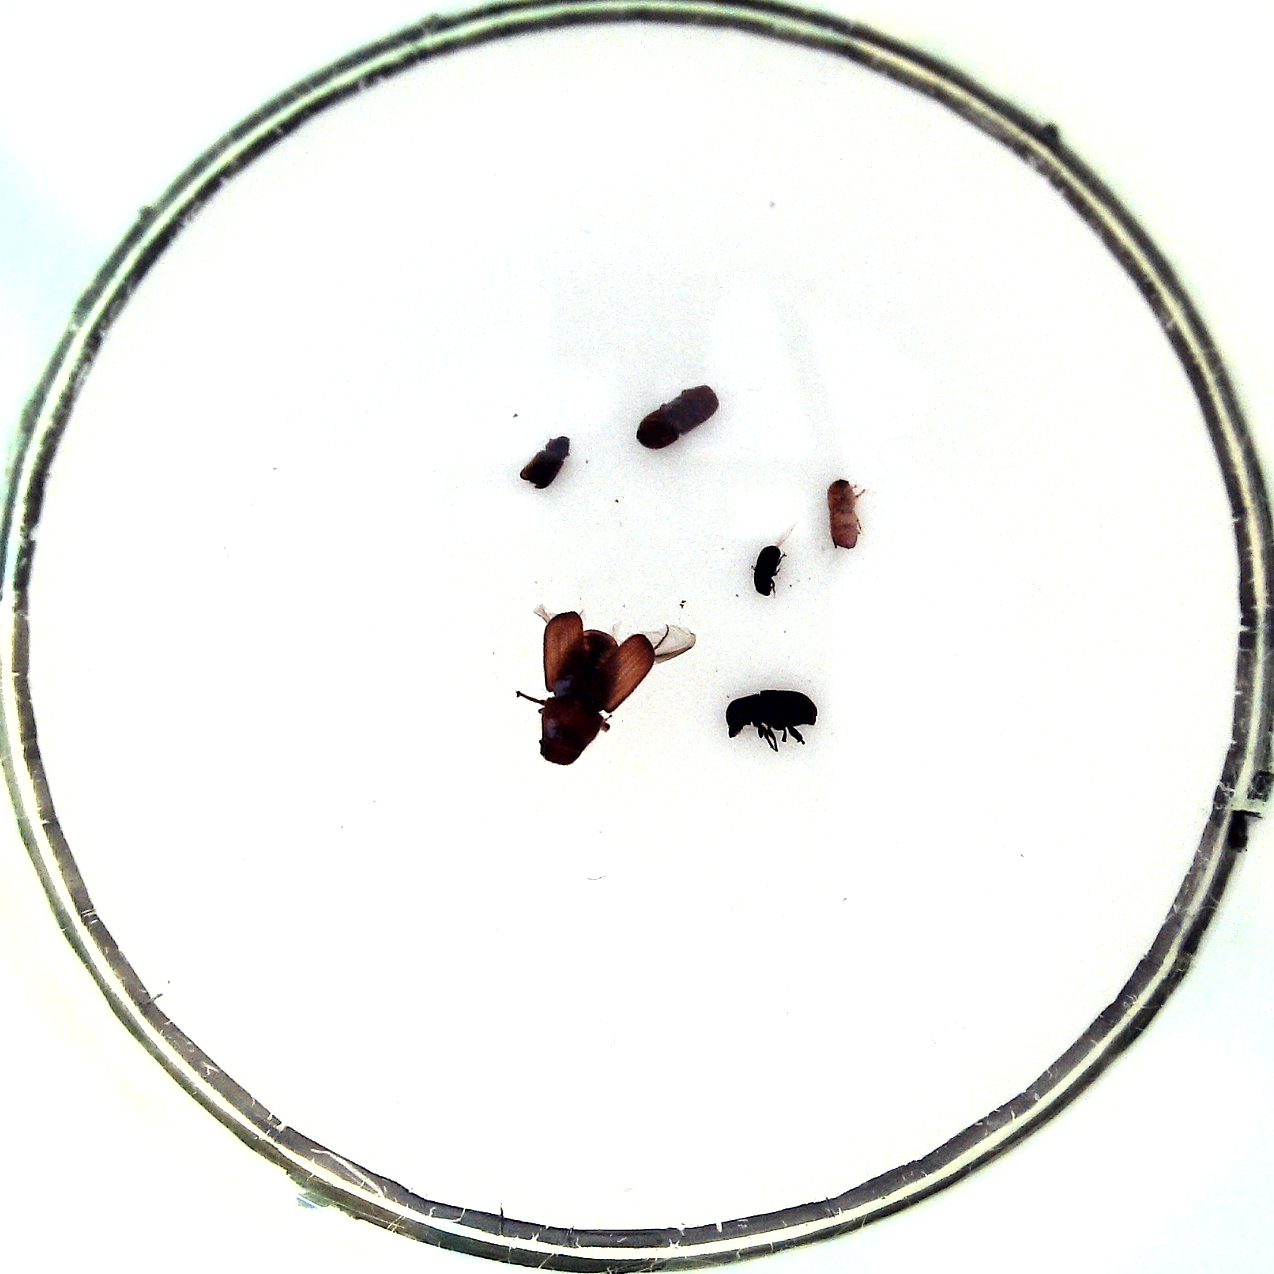Leconte: (539, 629, 619, 766)
acuminatus: (754, 545, 782, 596)
armandi: (724, 689, 818, 738)
coleoptera: (519, 436, 570, 488), (827, 480, 860, 549)
linnaeus: (637, 386, 719, 450)
